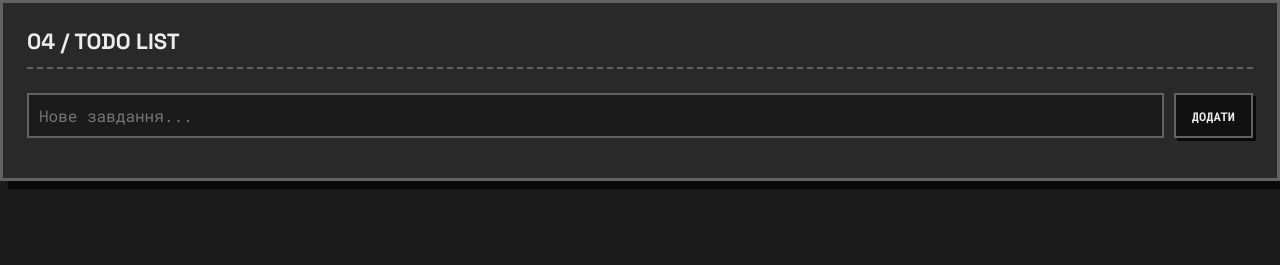
Scenario: TodoList › додає, редагує та видаляє завдання
This screenshot has width=1280, height=265.
Later steps or results of the test are not shown.
Type "Завдання 1" into the field named "new-todo" at coordinates (595, 116), box x1=27 y1=93 x2=1164 y2=138
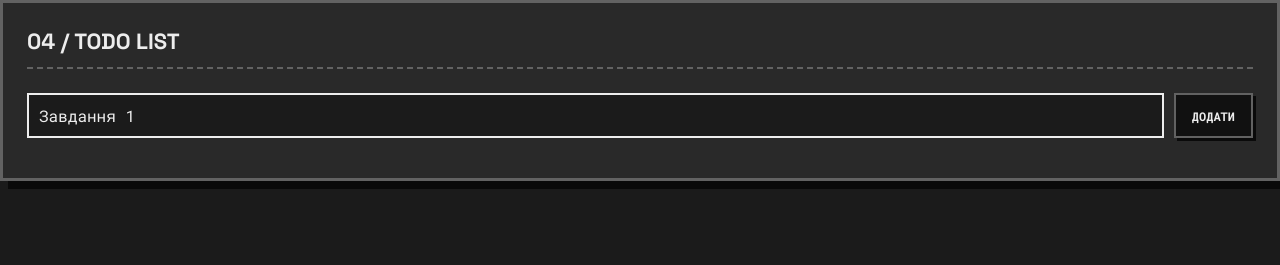
Click the button "Додати" at coordinates (1213, 116), box x1=1174 y1=93 x2=1253 y2=138
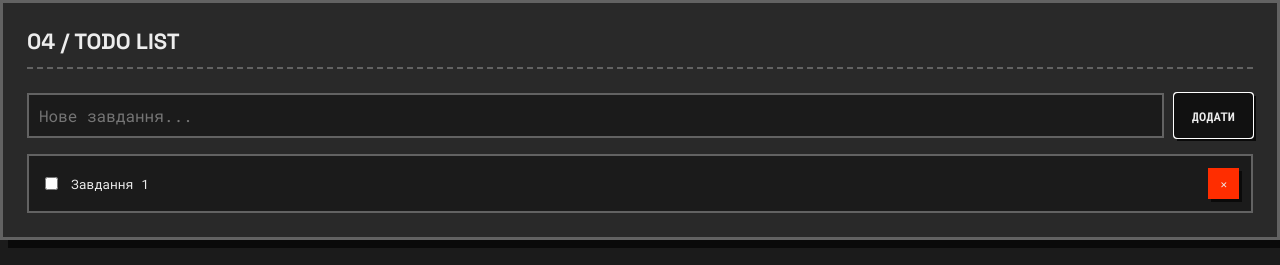
Result: the text "Завдання 1" is shown at x1=71 y1=174 x2=149 y2=192
Click the checkbox named "toggle-" at coordinates (52, 184), box x1=45 y1=177 x2=58 y2=190
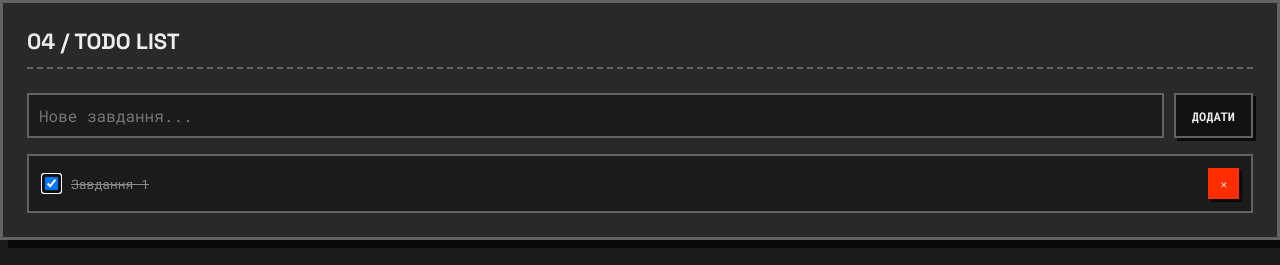
Click the button "✕" at coordinates (1224, 184), box x1=1208 y1=168 x2=1239 y2=199
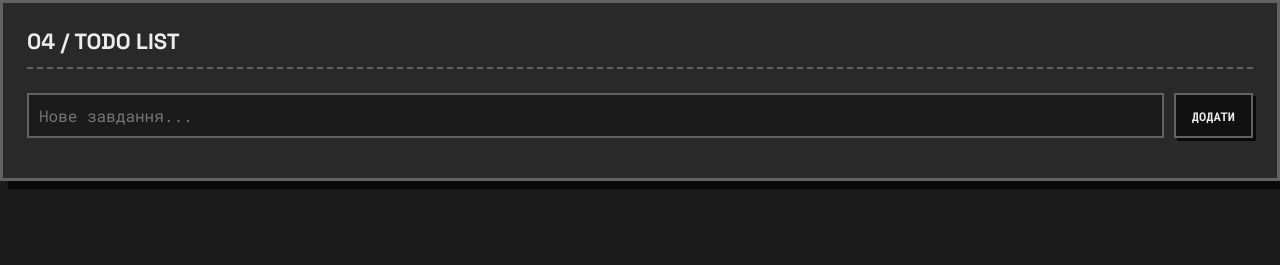
Result: the text "Завдання 1" is gone
